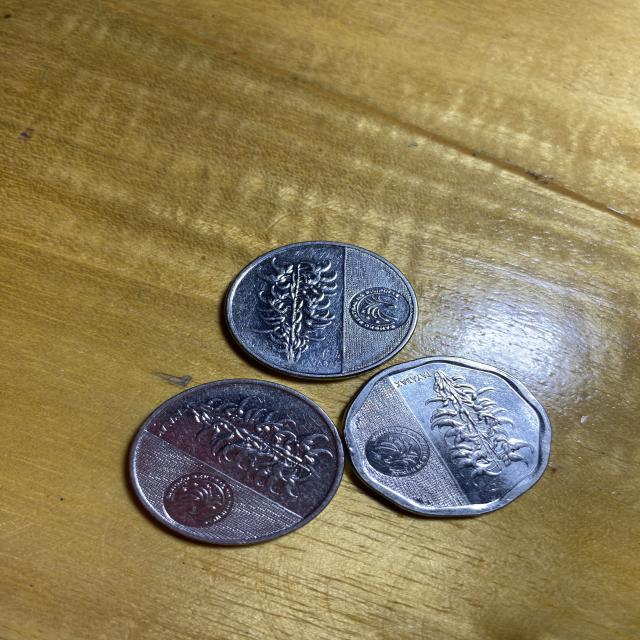5_New_Back: (190, 397, 336, 490), (417, 370, 527, 478), (253, 262, 325, 367)
